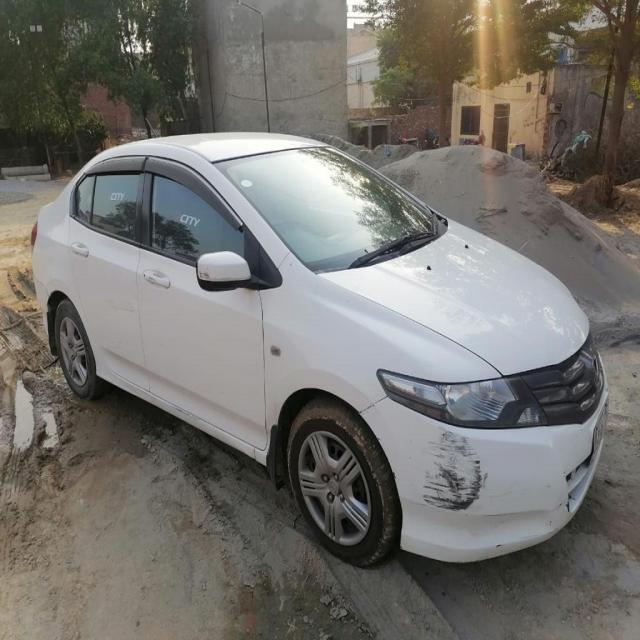scratch: (418, 424, 494, 514), (103, 293, 150, 323)
